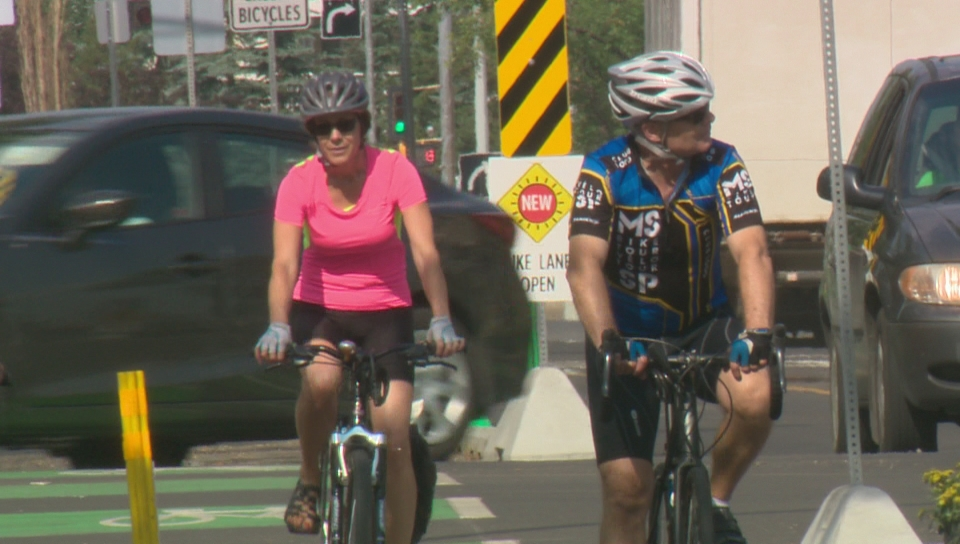helmet: (606, 51, 715, 157), (298, 66, 371, 166)
